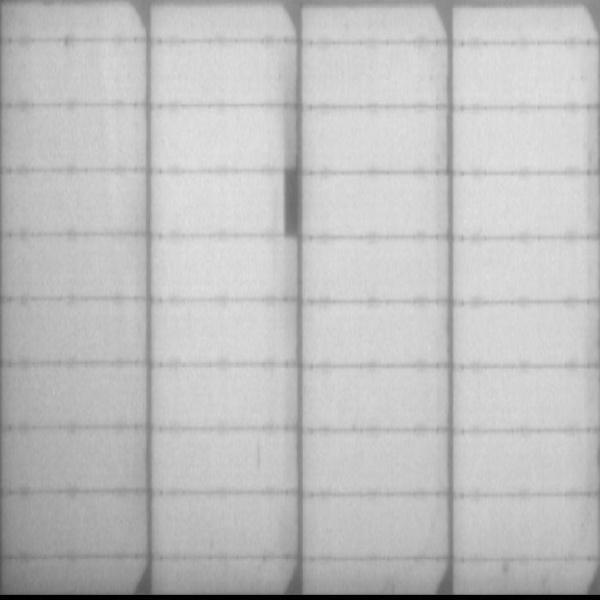black_border: (273, 165, 300, 234)
